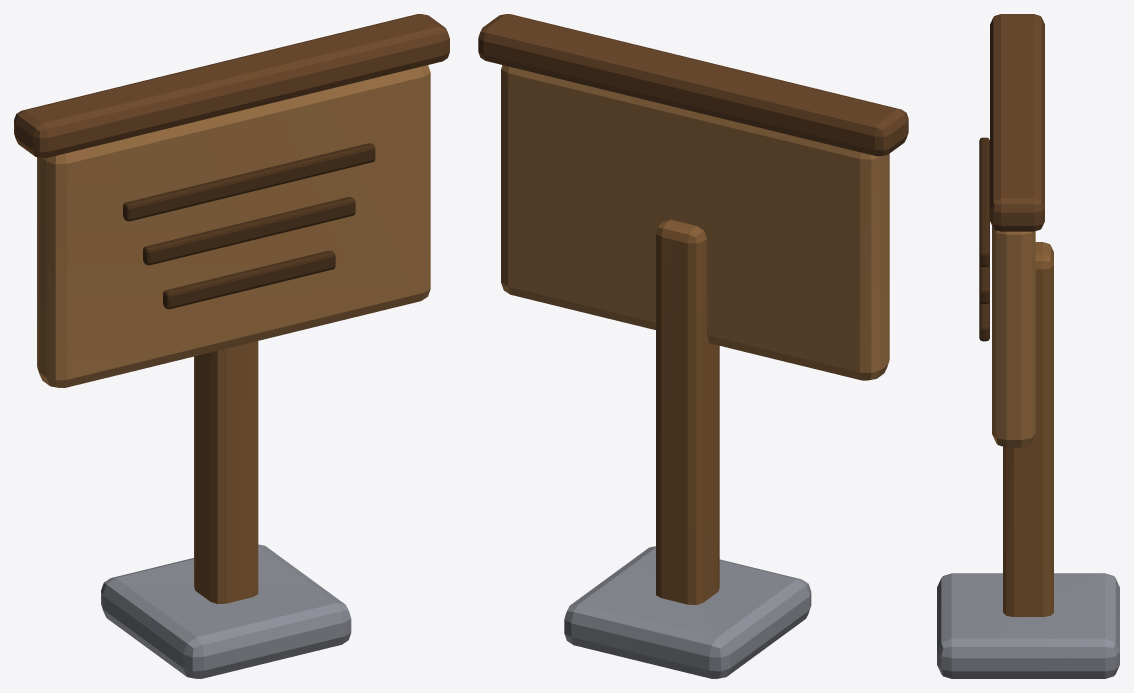
Rendered from gym_sign_lite.glb.
The picture shows the model from 3 angles, left to right: view 1: azimuth 30°, elevation 25°; view 2: azimuth 150°, elevation 25°; view 3: azimuth 270°, elevation 25°; orthographic projection. The views are drawn at different scales.
Parts seen in each view (by area): view 1: Cube; view 2: Cube; view 3: Cube.
Boxes of the visible parts, x1=… form: Cube: x1=14, y1=14, x2=449, y2=678; Cube: x1=478, y1=14, x2=908, y2=678; Cube: x1=937, y1=14, x2=1119, y2=678.
Bounding box in the file's own units: 1.25 × 1.63 × 0.5.
